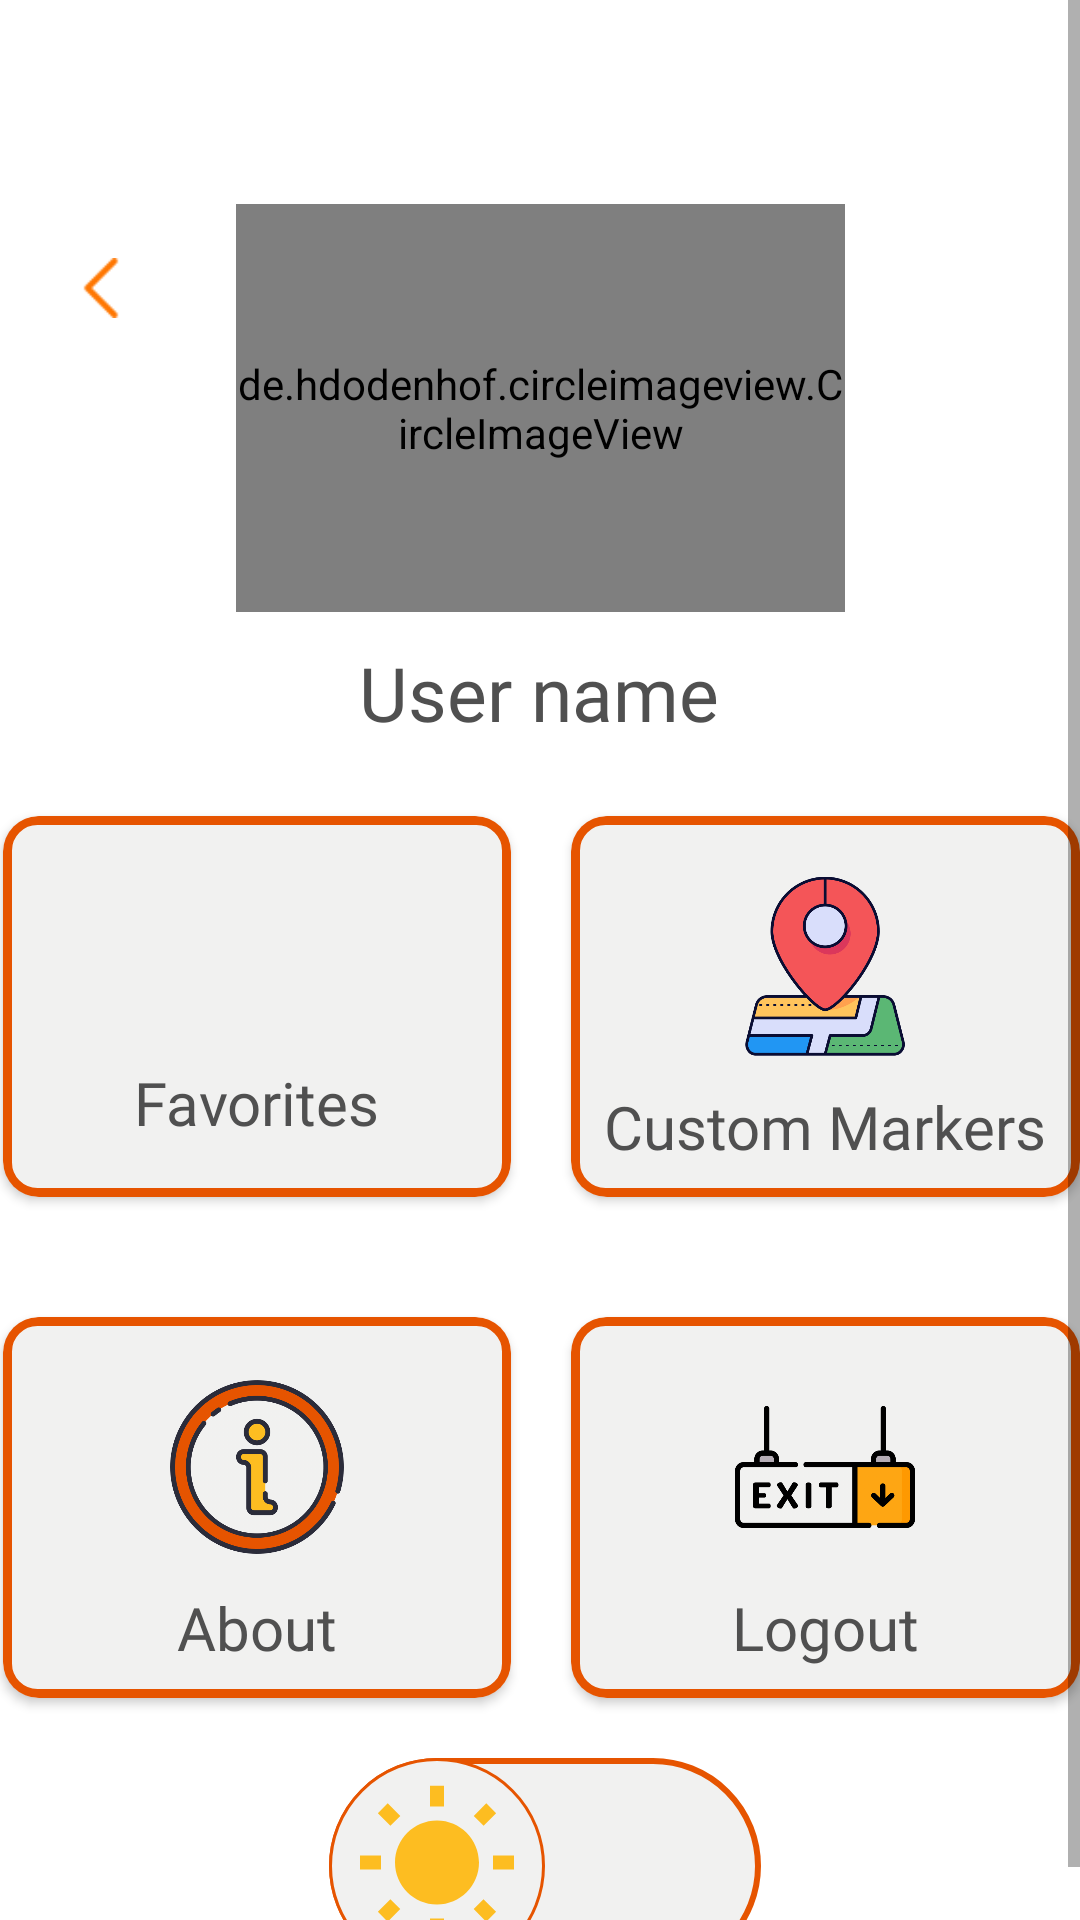

Where icons sit on this 1080w x 1920h app screen, as (x1, y1, x2, y2):
back: (83, 258, 119, 318)
information: (170, 1380, 344, 1554)
location marker: (745, 877, 905, 1056)
